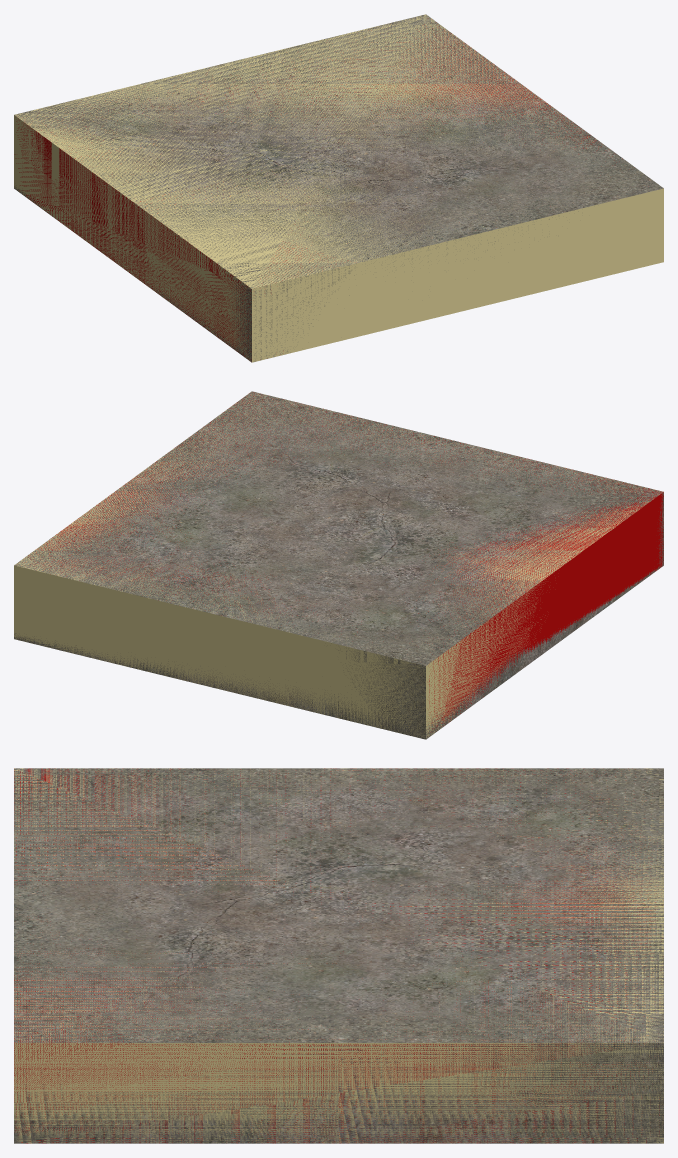
File: SciFi_floor_tile_01.DAE
The picture shows the model from 3 angles, top to bottom: view 1: azimuth 30°, elevation 25°; view 2: azimuth 150°, elevation 25°; view 3: azimuth 270°, elevation 25°; orthographic projection. The views are drawn at different scales.
Parts seen in each view (by area): view 1: colbox-01, floor_tile_one, bounds; view 2: floor_tile_one, colbox-01, bounds; view 3: floor_tile_one, colbox-01, bounds.
Part boxes in pixels (x1,y1,x2,y2): colbox-01: (14,14,663,362); floor_tile_one: (14,14,663,362); bounds: (14,24,612,361); floor_tile_one: (14,391,663,739); colbox-01: (14,392,662,739); bounds: (24,392,663,728); floor_tile_one: (14,768,663,1143); colbox-01: (14,768,663,1143); bounds: (14,768,659,1143).
Bounding box in the file's own units: 700 × 700 × 120.
